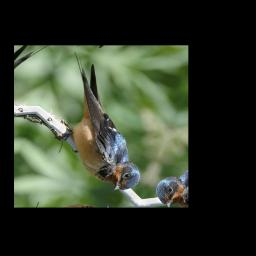Swallow: (27, 50, 180, 198)
